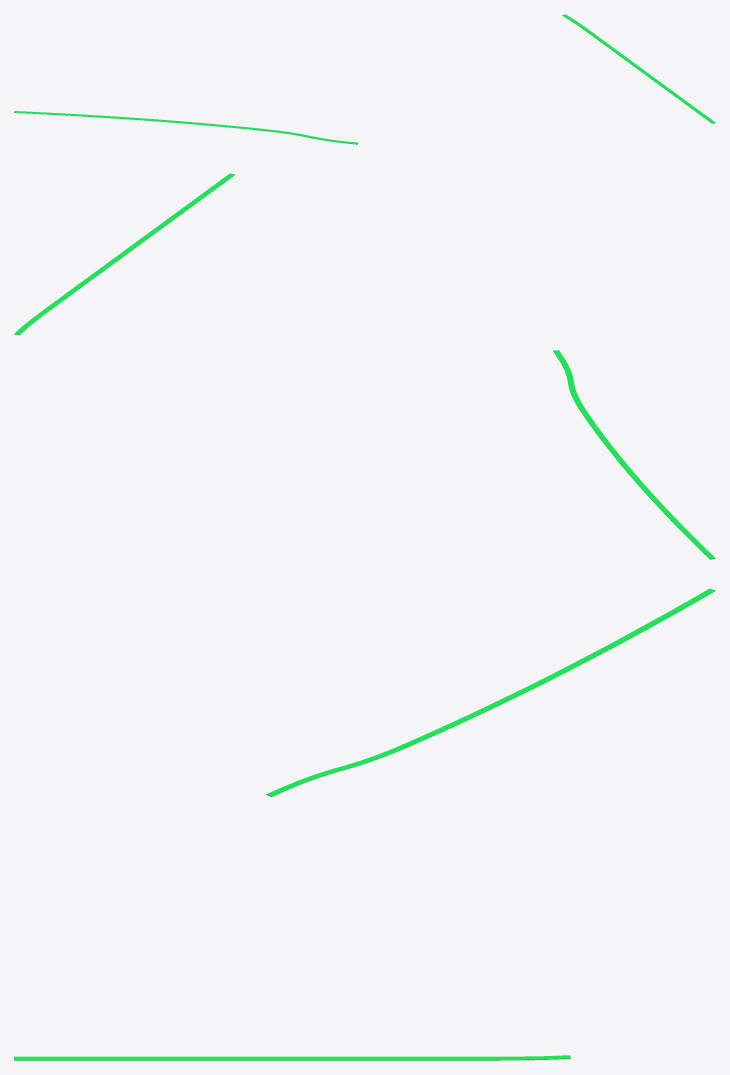
Rendered from AustinDrs.glb.
3 renders of one model, top to bottom at view 1: azimuth 30°, elevation 25°; view 2: azimuth 150°, elevation 25°; view 3: azimuth 270°, elevation 25°, orthographic. The views are drawn at different scales.
Parts seen in each view (by area): view 1: DrsStrip_1, DrsStrip_2; view 2: DrsStrip_1, DrsStrip_2; view 3: DrsStrip_2, DrsStrip_1.
Part boxes in pixels (x1,y1,x2,y2): DrsStrip_1: (14,111,358,144); DrsStrip_2: (562,14,715,123); DrsStrip_1: (553,350,715,559); DrsStrip_2: (14,173,235,335); DrsStrip_2: (14,1055,570,1060); DrsStrip_1: (266,588,715,796).
Bounding box in the file's own units: 12.9 × 0.006 × 8.11.
